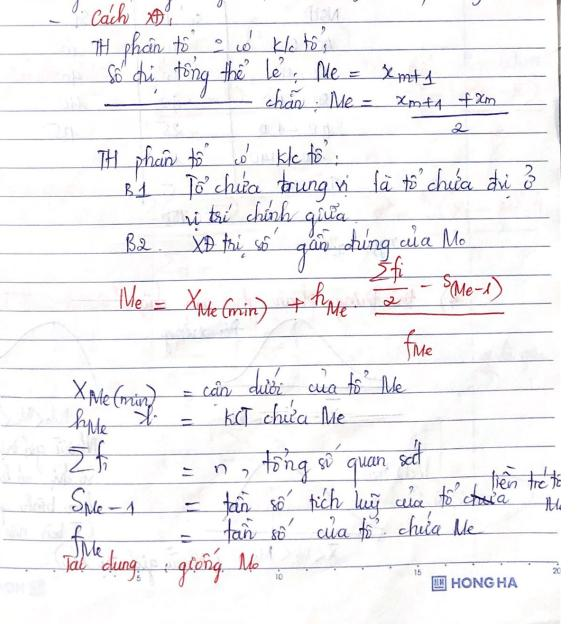text: (117, 254, 506, 363), (67, 465, 565, 519), (69, 361, 408, 408), (183, 163, 539, 204), (104, 55, 437, 98), (189, 226, 468, 273), (66, 397, 351, 440), (179, 511, 484, 549), (178, 439, 427, 485), (94, 137, 333, 183), (89, 25, 330, 65), (59, 547, 262, 589), (264, 88, 500, 116), (184, 199, 352, 238), (89, 1, 175, 29), (63, 437, 112, 477), (69, 521, 109, 559), (448, 575, 521, 592), (124, 232, 152, 257), (123, 179, 152, 201), (448, 119, 472, 135)
